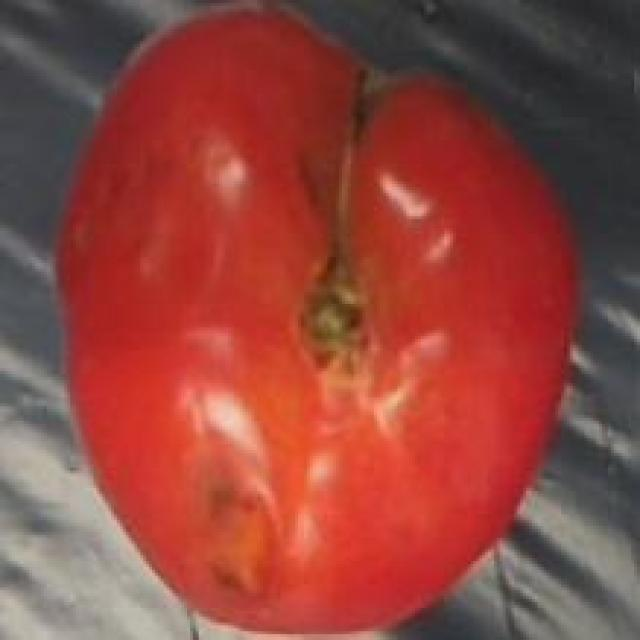overripe tomato: (47, 6, 599, 640)
